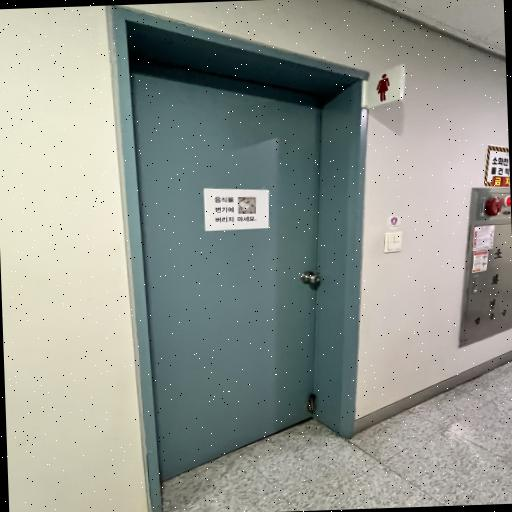door: (112, 5, 371, 512)
